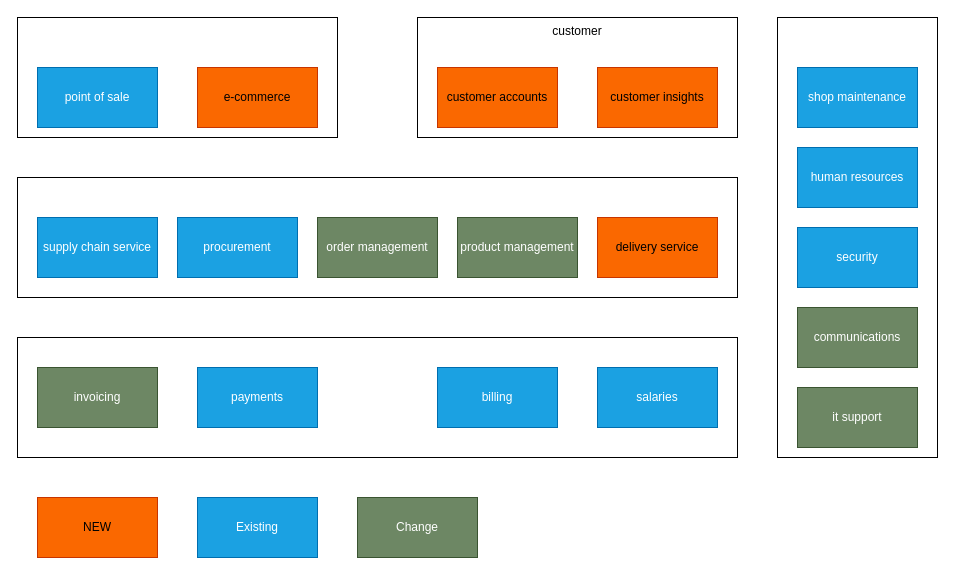
The diagram is 955 pixels wide and 575 high, and some of its shapes have lost their labels. Each missing label, with the box of its shape:
financial services: (16, 336, 738, 458)
operations: (776, 16, 938, 458)
sales: (16, 16, 338, 138)
warehouse: (16, 176, 738, 298)
